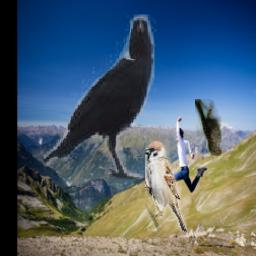Crow: (43, 14, 155, 179)
Sparrow: (144, 140, 186, 233), (195, 100, 221, 157)
